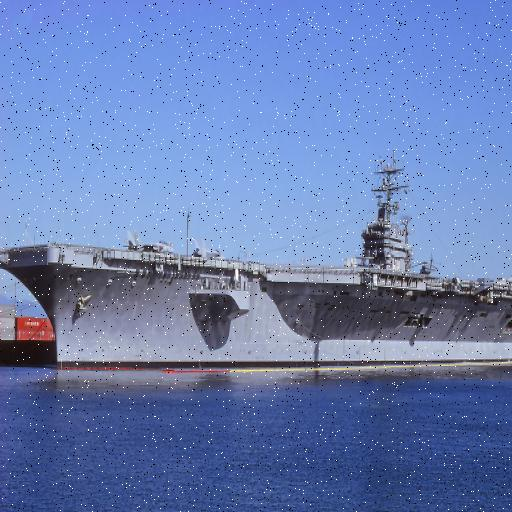Portanaves: (1, 143, 512, 375)
